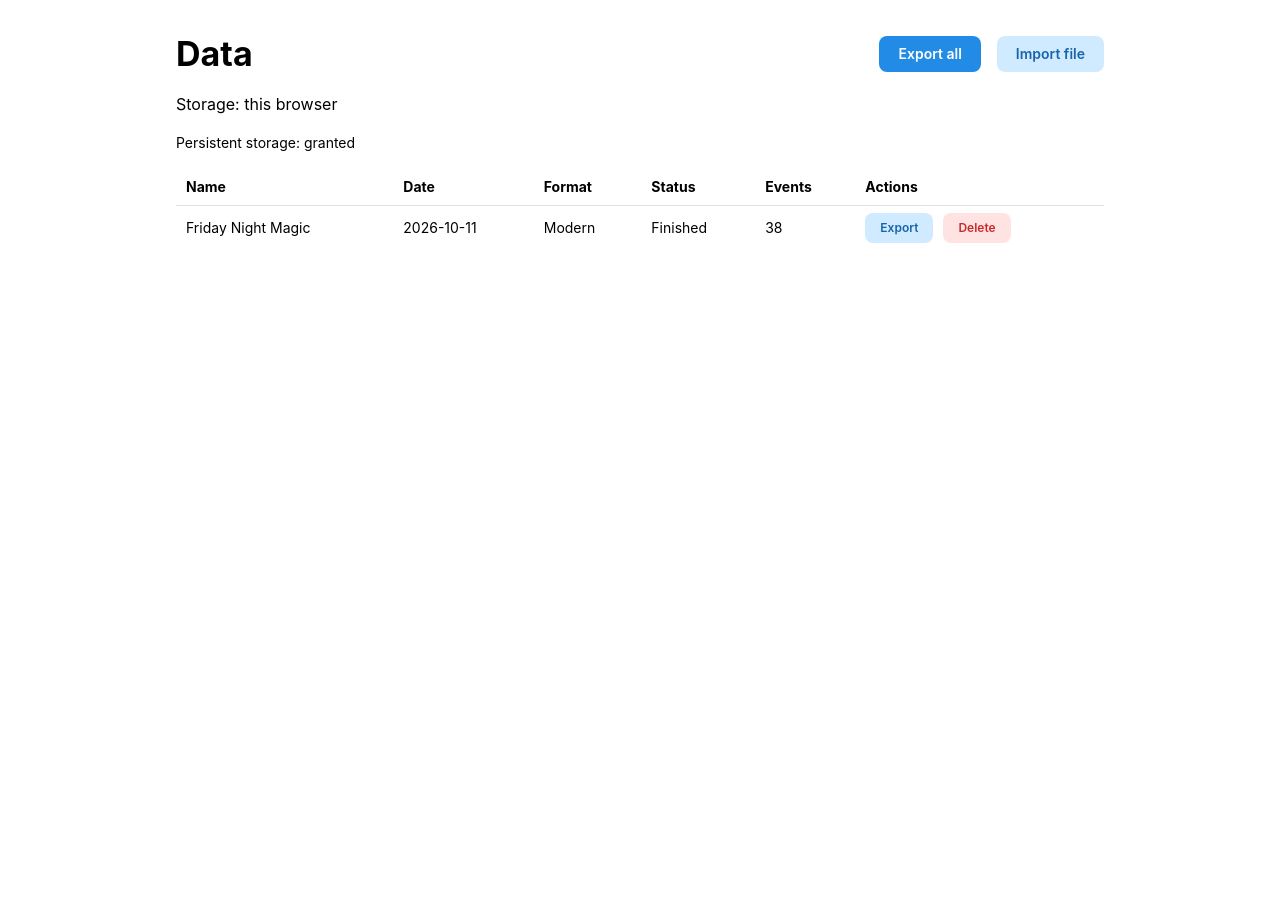
Test case: DataPage delete › removes the row on confirm and keeps the players
The width and height of the screenshot is (1280, 900).
Click the button "Delete".
click(977, 228)  # box [943,213,1011,243]
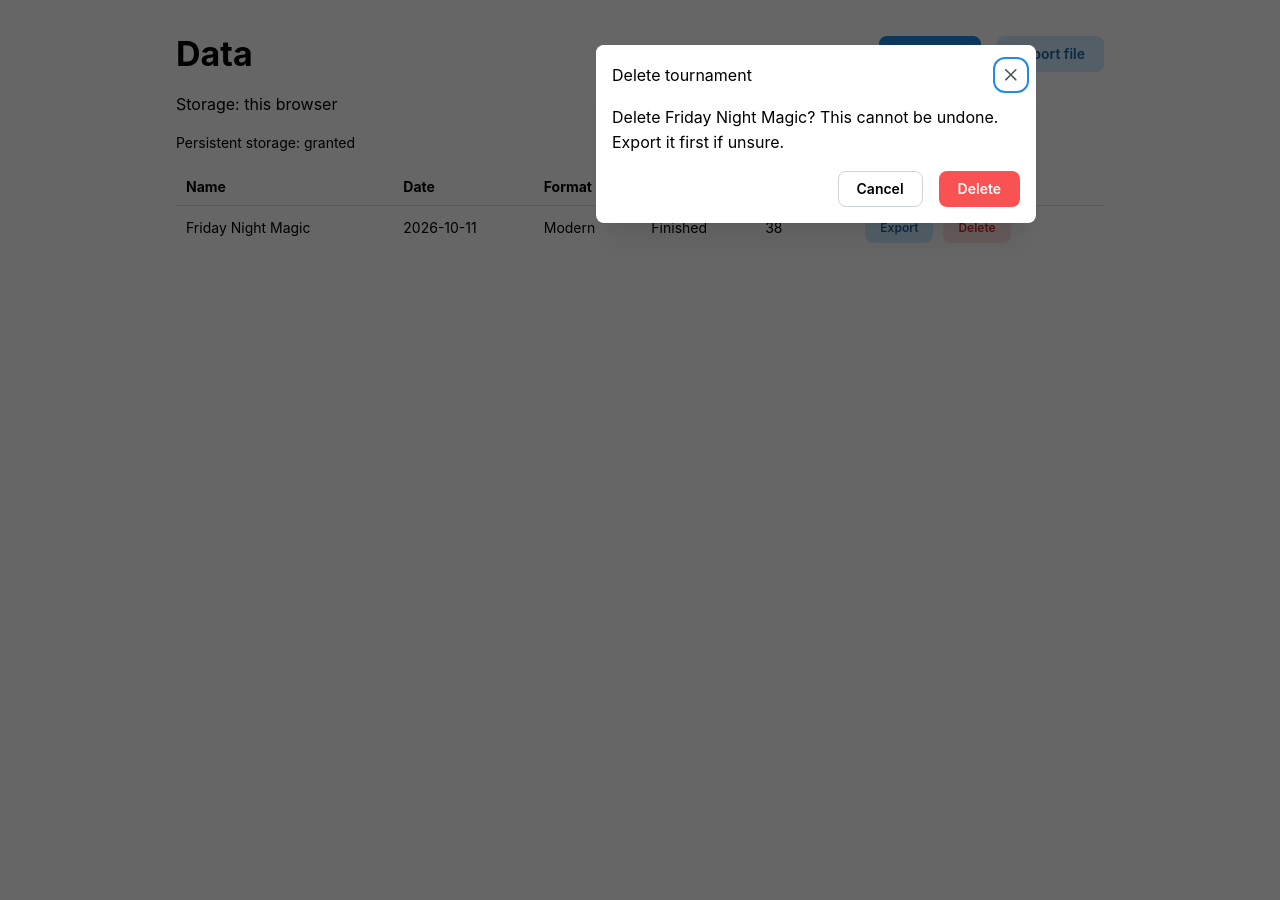
Result: the text "Delete Friday Night Magic? This cannot be undone. Export it first if unsure." is shown at [612,105,1020,155]
Click the button "Delete".
click(979, 189)  # box [939,171,1020,207]
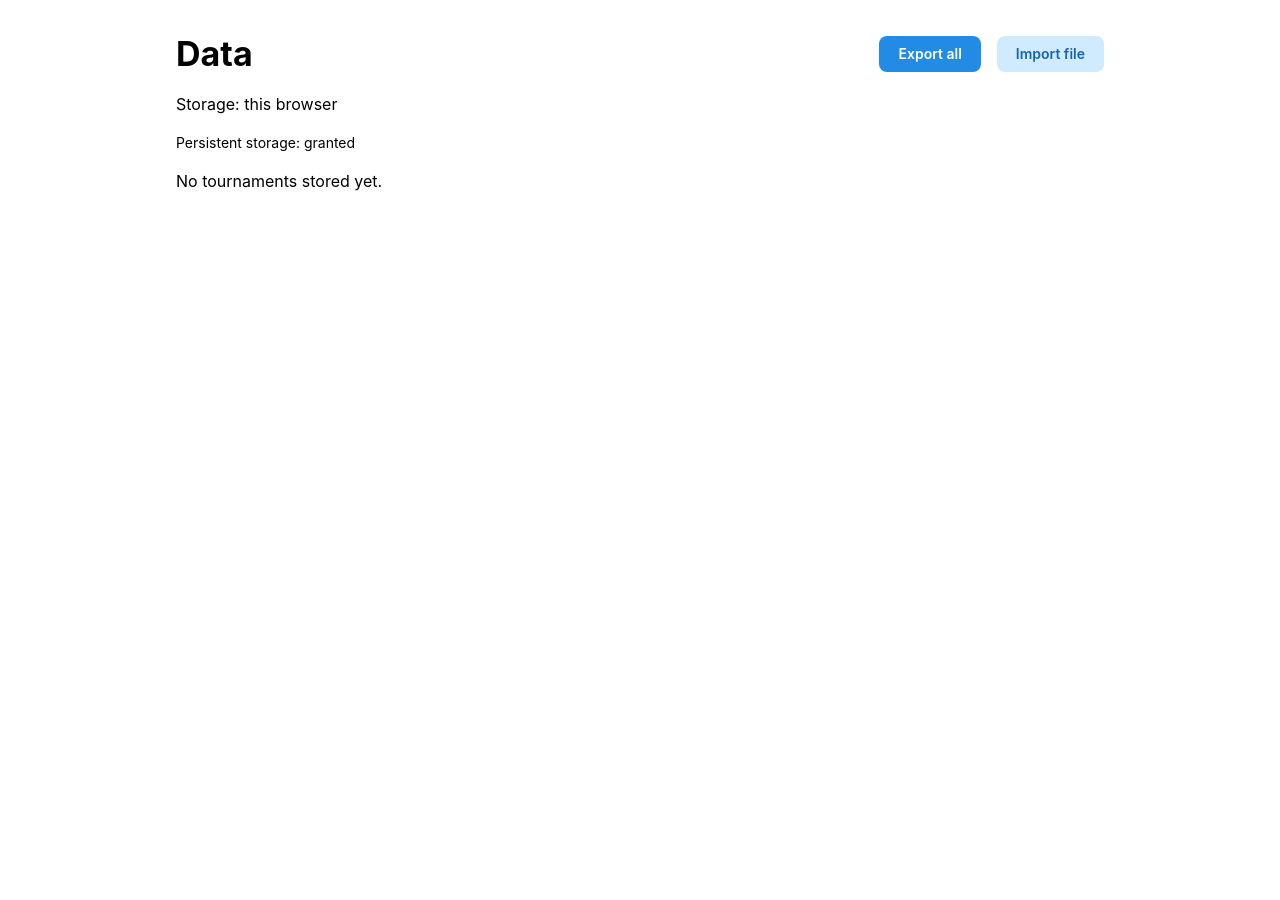
Result: the text "No tournaments stored yet." is shown at [176,171,382,191]
Result: the dialog is gone
